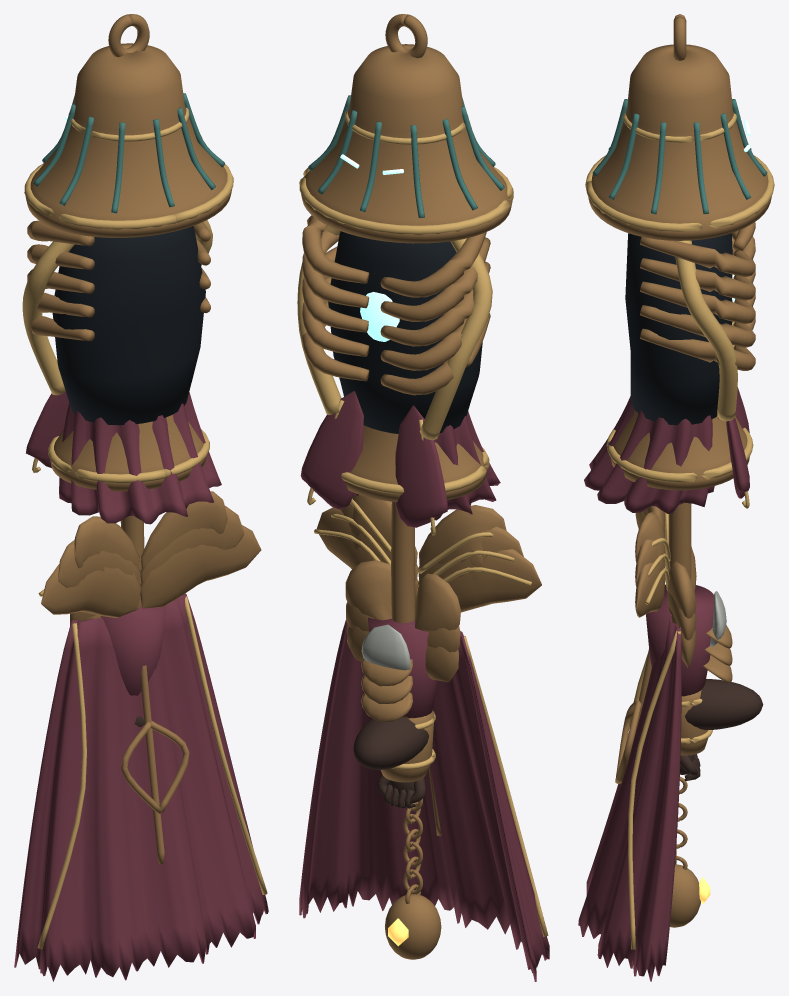
File: guardian_0.glb
3 renders of one model, left to right at view 1: azimuth 30°, elevation 25°; view 2: azimuth 150°, elevation 25°; view 3: azimuth 270°, elevation 25°, orthographic. The views are drawn at different scales.
Visible parts, largest first — view 1: Cape__wine, Body__bronze, Body__dark, Body__wine, ArmR__bronze, ArmL__bronze, Body__gold, Weapon__bronze, Cape__gold, LegL__wine, Body__patina, Cape__bronze (+1 smaller); view 2: Body__bronze, Cape__wine, ArmL__bronze, Body__dark, Body__wine, Body__gold, ArmR__bronze, Weapon__bronze, Body__patina, KneeL__leather, KneeL__bronze, LegL__wine (+7 smaller); view 3: Body__bronze, Cape__wine, Body__dark, Body__wine, Body__gold, Weapon__bronze, ArmR__bronze, ArmL__bronze, Body__patina, LegL__wine, KneeL__leather, Cape__gold (+5 smaller).
Part boxes in pixels (x1,y1,x2,y2): Cape__wine: (14,593,268,981); Body__bronze: (25,14,231,341); Body__dark: (52,226,205,425); Body__wine: (25,392,221,524); ArmR__bronze: (140,491,261,608); ArmL__bronze: (41,516,140,625); Body__gold: (22,108,233,472); Weapon__bronze: (50,414,206,607); Cape__gold: (37,596,267,949); LegL__wine: (101,605,166,695); Body__patina: (33,93,224,213); Cape__bronze: (121,665,189,863); Body__bronze: (301,14,512,395); Cape__wine: (299,620,549,981); ArmL__bronze: (381,505,541,959); Body__dark: (328,231,482,433); Body__wine: (300,391,500,527); Body__gold: (297,110,513,535); ArmR__bronze: (316,494,418,661); Weapon__bronze: (344,425,487,623); Body__patina: (308,95,504,218); KneeL__leather: (353,717,434,769); KneeL__bronze: (361,658,432,721); LegL__wine: (368,606,437,717); Body__bronze: (588,14,771,370); Cape__wine: (578,617,681,981); Body__dark: (625,233,732,425); Body__wine: (584,387,749,514); Body__gold: (585,113,774,508); Weapon__bronze: (611,410,749,579); ArmR__bronze: (635,511,696,667); ArmL__bronze: (635,506,708,927); Body__patina: (592,99,767,214); LegL__wine: (646,584,714,696); KneeL__leather: (685,679,763,730); Cape__gold: (628,630,680,949).
Size of the model in its own units: 1.01 by 3.68 by 0.7189.
